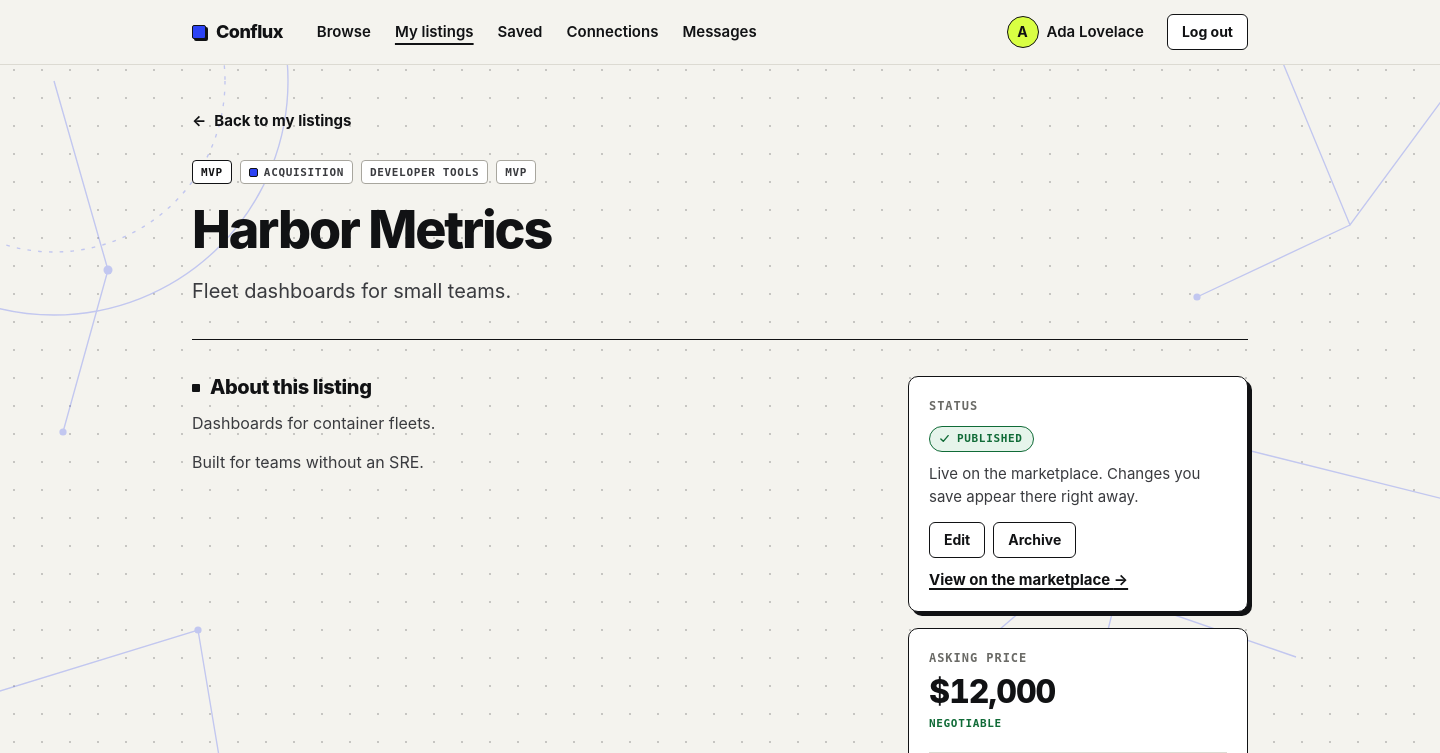
Test: My listing › archives via DELETE, then re-reads the listing and shows the state the backend reports
Click the button "Archive" at (1035, 540), box [993,522,1076,558]
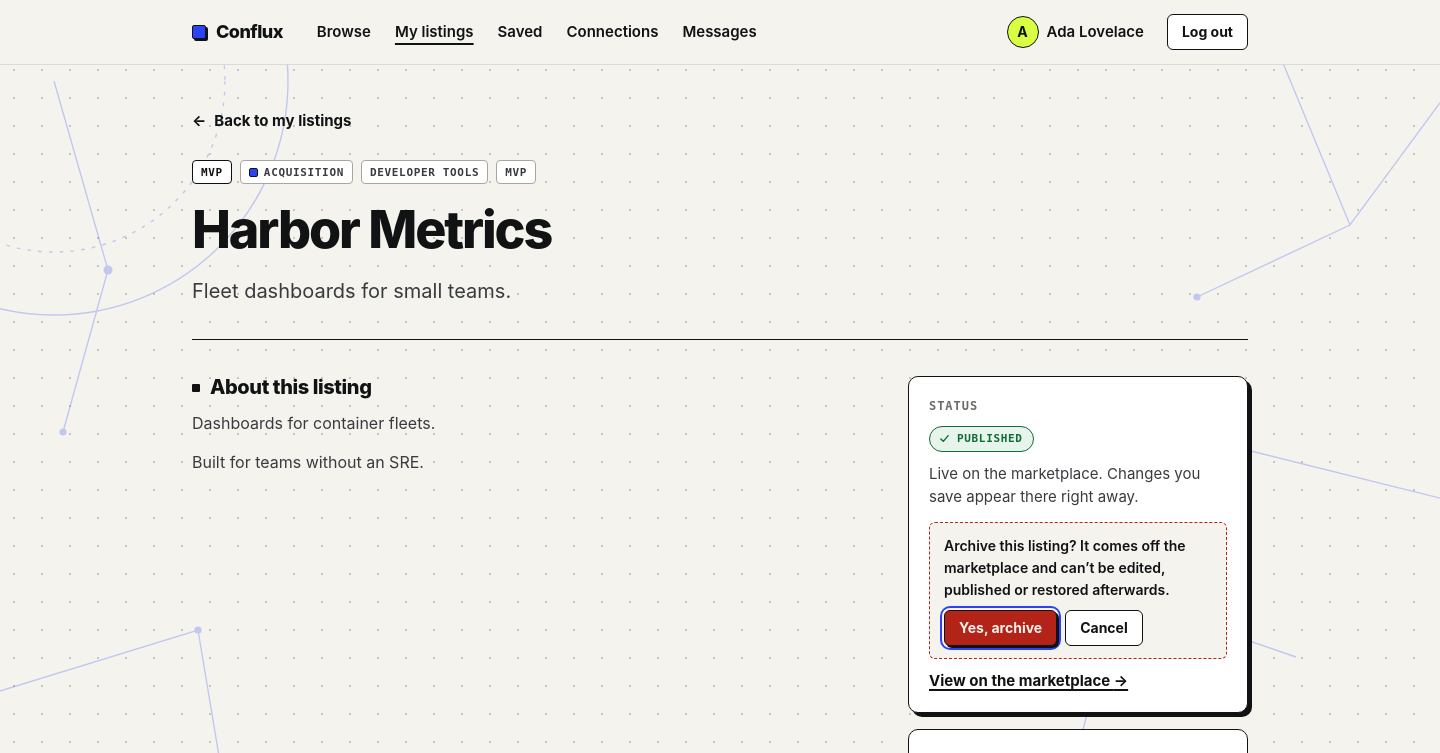
Click the button "Yes, archive" at (1001, 628), box [944,610,1057,646]
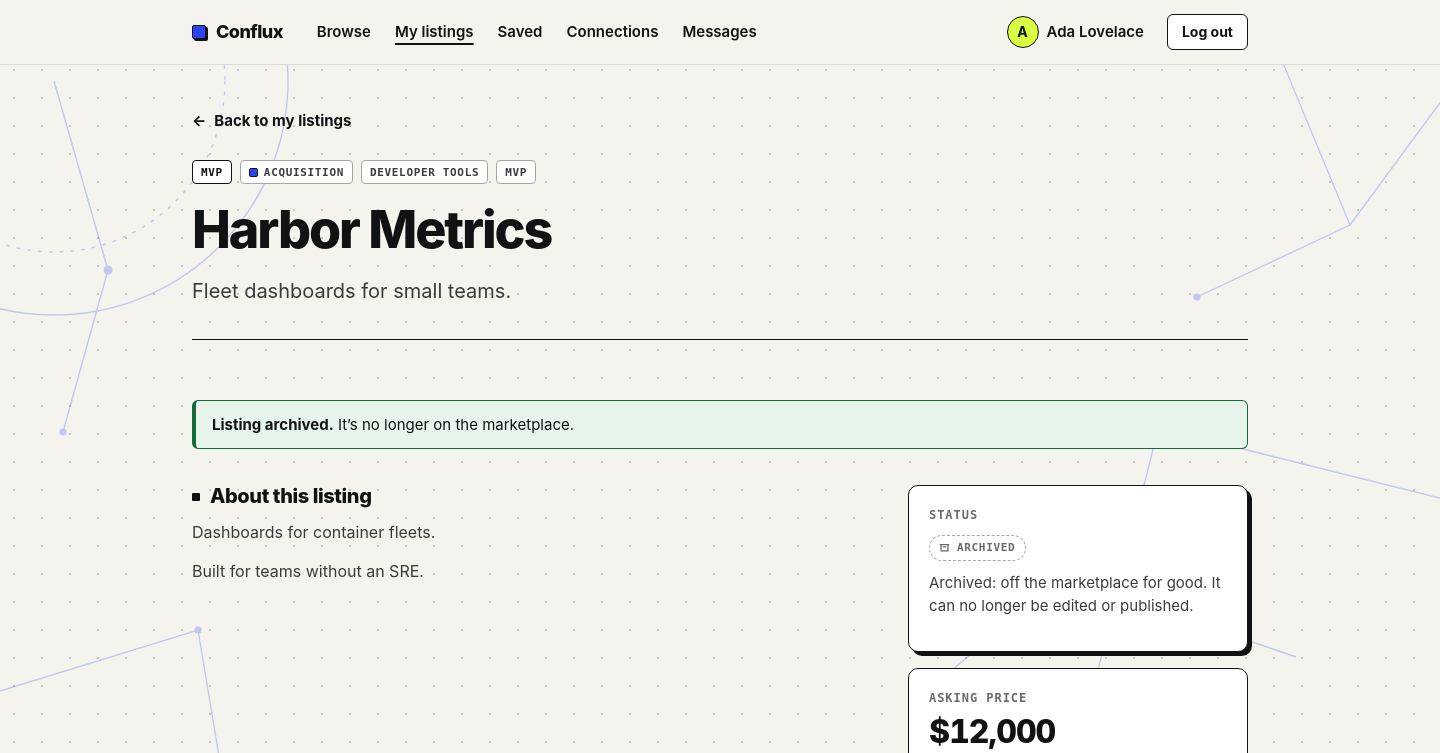
expect the text "Archived" is shown: met, box [929,535,1026,561]
expect the text "Listing archived." is shown: met, box [212,415,334,434]
expect the button "Yes, archive" is gone: met
